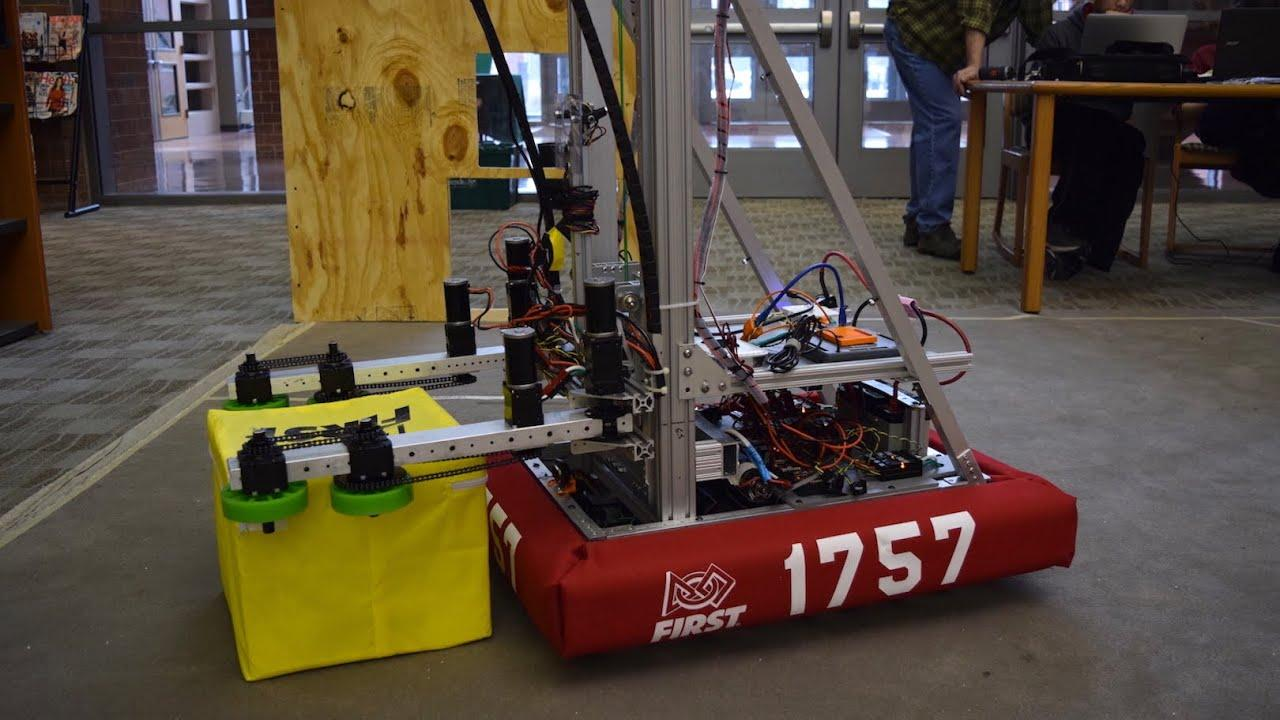robot: (228, 3, 1081, 651)
